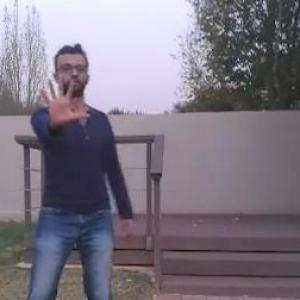follow_hand: (36, 73, 92, 126)
